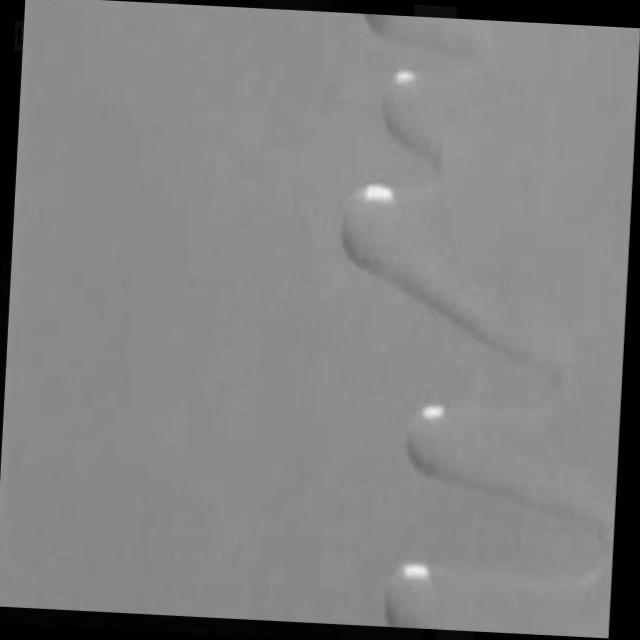paint drips: (336, 18, 633, 370), (372, 361, 620, 538), (367, 534, 608, 636)
